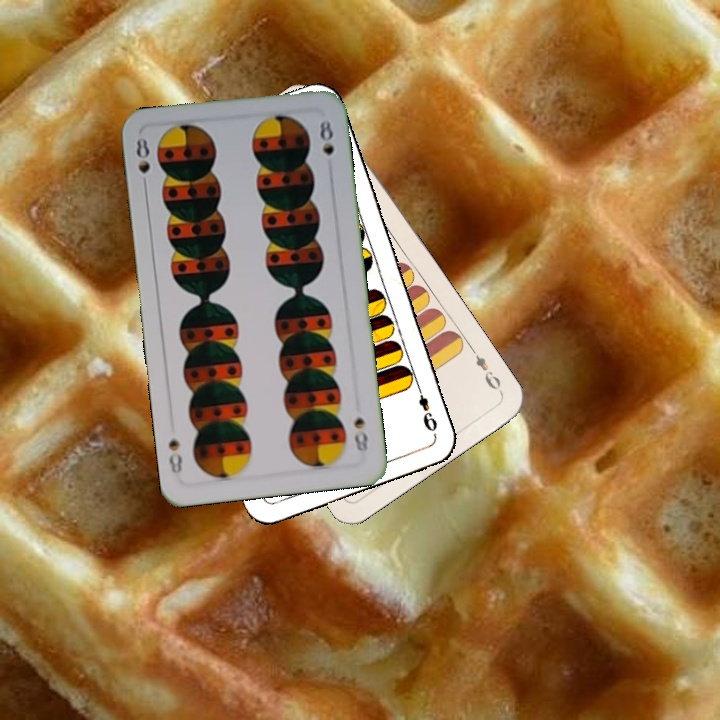E9: (466, 343, 505, 396), (412, 381, 440, 438)
S8: (132, 133, 153, 193), (350, 413, 371, 455)
